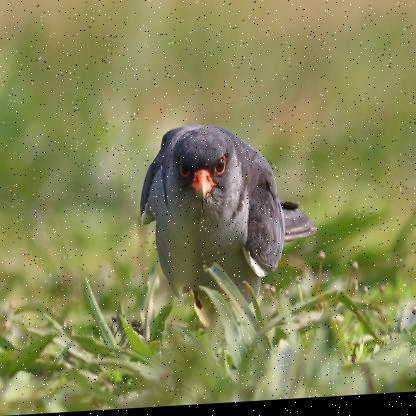Burung: (140, 119, 318, 344)
